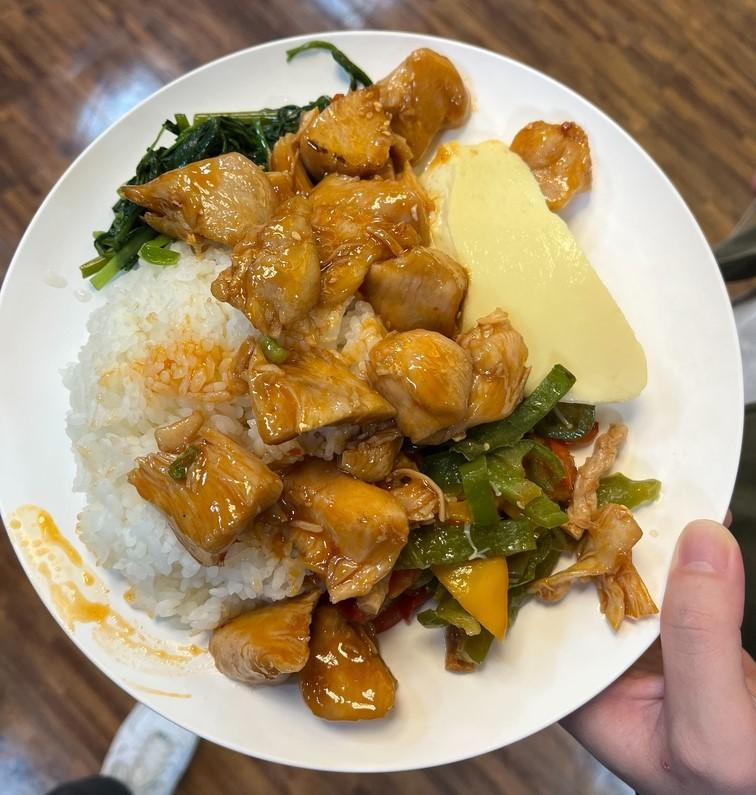big fried chicken leg: (2, 12, 756, 782)
big herbal chicken leg: (56, 240, 369, 632)
braised fish fillet: (400, 397, 655, 669), (429, 134, 650, 401), (73, 99, 318, 282)
braised pork: (126, 39, 595, 727)
